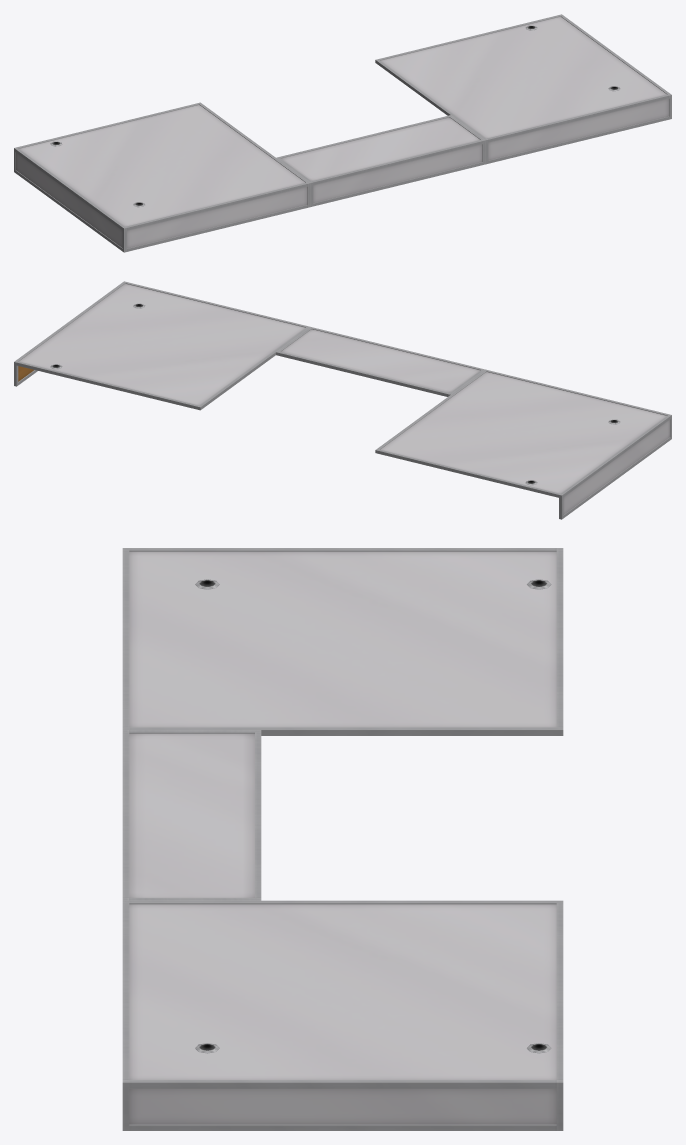
File: jsf_4P_s03_c04_t02_DX.fbx
The picture shows the model from 3 angles, top to bottom: view 1: azimuth 30°, elevation 25°; view 2: azimuth 150°, elevation 25°; view 3: azimuth 270°, elevation 25°; orthographic projection. The views are drawn at different scales.
Parts seen in each view (by area): view 1: jsf_4P_s03_c04_t02_DX; view 2: jsf_4P_s03_c04_t02_DX; view 3: jsf_4P_s03_c04_t02_DX.
Boxes of the visible parts, left/top/right/bottom form: jsf_4P_s03_c04_t02_DX: left=14, top=14, right=671, bottom=252; jsf_4P_s03_c04_t02_DX: left=14, top=281, right=671, bottom=519; jsf_4P_s03_c04_t02_DX: left=122, top=548, right=563, bottom=1130.
Size of the model in its own units: 298 by 12.99 by 104.
